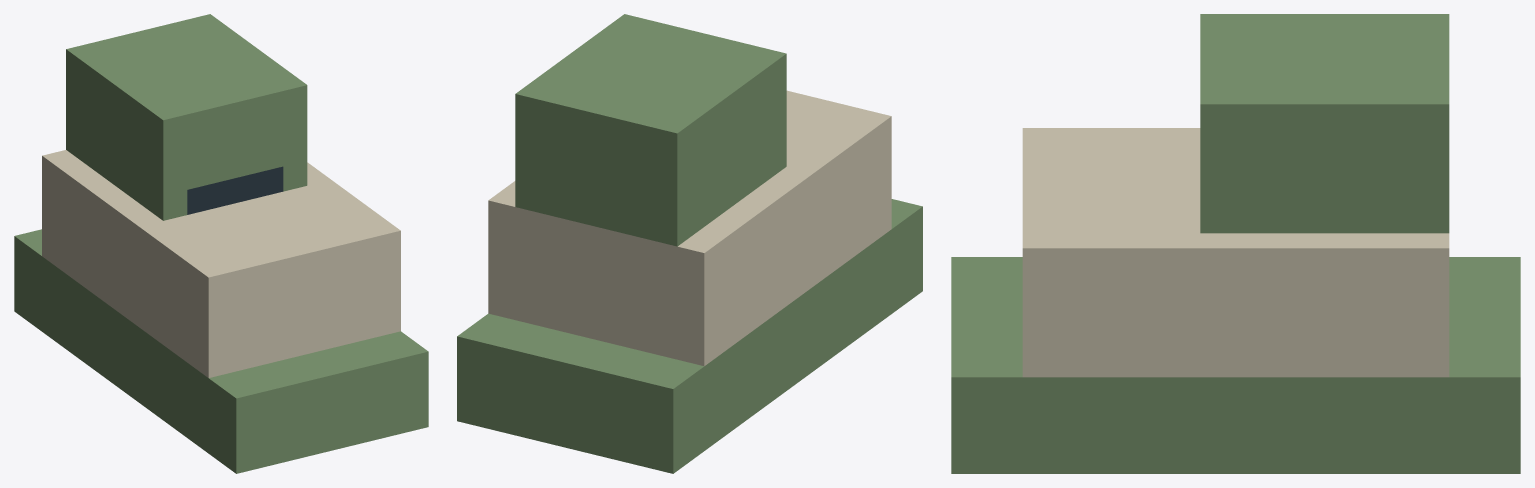
Rendered from gardening-17.glb.
The picture shows the model from 3 angles, left to right: view 1: azimuth 30°, elevation 25°; view 2: azimuth 150°, elevation 25°; view 3: azimuth 270°, elevation 25°; orthographic projection. The views are drawn at different scales.
Parts seen in each view (by area): view 1: Garden boots; view 2: Garden boots; view 3: Garden boots.
Boxes of the visible parts, x1,y1,x2,y2 form: Garden boots: (14, 14, 428, 473); Garden boots: (457, 14, 922, 473); Garden boots: (951, 14, 1520, 473).
Bounding box in the file's own units: 0.64 × 0.88 × 1.28.
